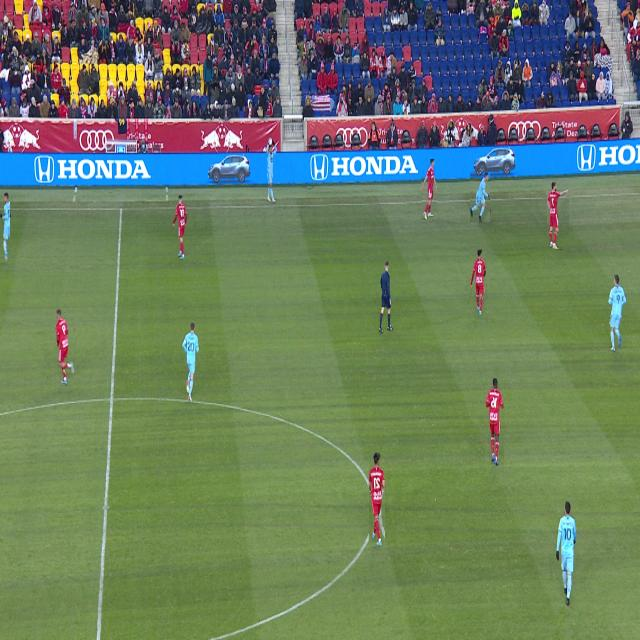player: (556, 501, 576, 606), (485, 378, 504, 466), (369, 453, 385, 547), (547, 182, 569, 249), (608, 274, 626, 352), (182, 322, 199, 401), (56, 310, 74, 384), (471, 250, 486, 316), (421, 159, 437, 220), (471, 172, 490, 222), (173, 195, 187, 260), (0, 193, 10, 262)
referee: (379, 261, 393, 333)
